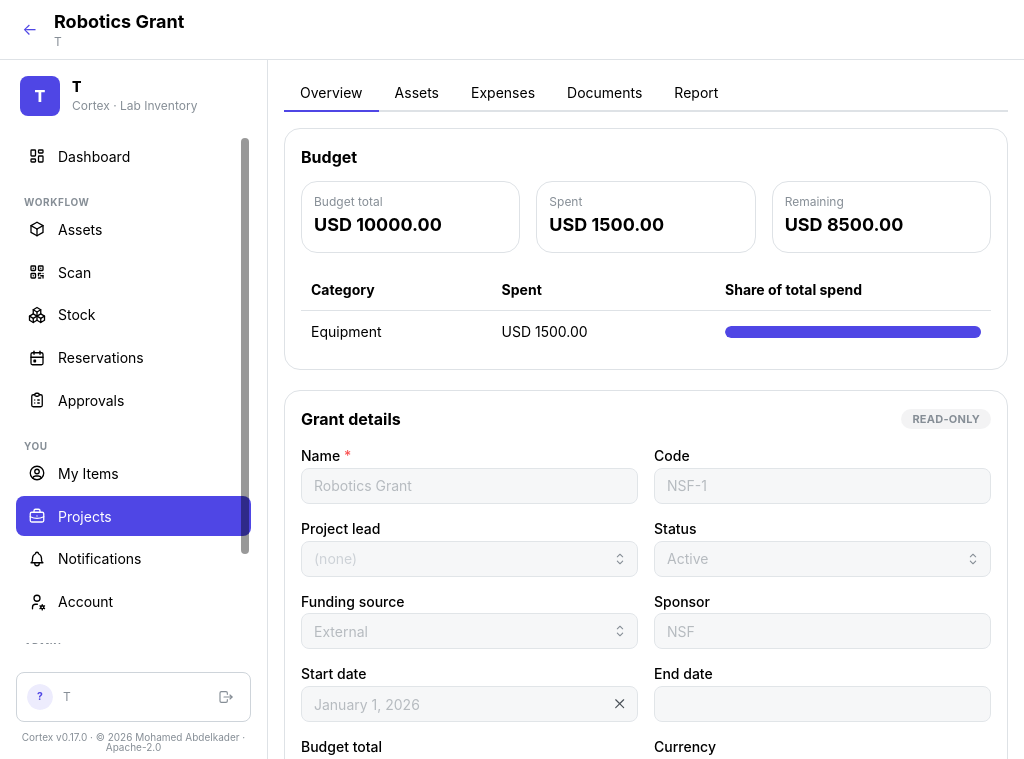
it: ProjectHubScreen › a simple order never shows the shipment concept, and a split one does
This screenshot has width=1024, height=759.
Click the tab with test id "project-tab-expenses".
click(503, 94)  # box [455,76,551,112]
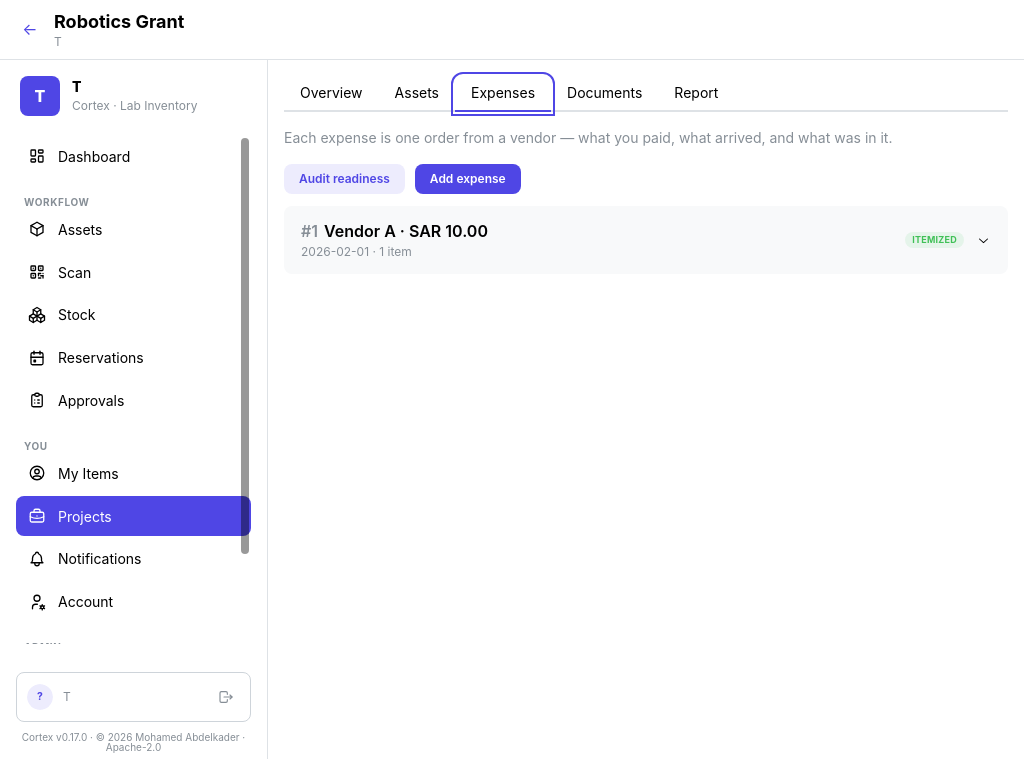
Now the text "#1Vendor A · SAR 10.00" is shown, box [301,219,488,244]
Now the text "2026-02-01 · 1 item" is shown, box [301,244,412,259]
